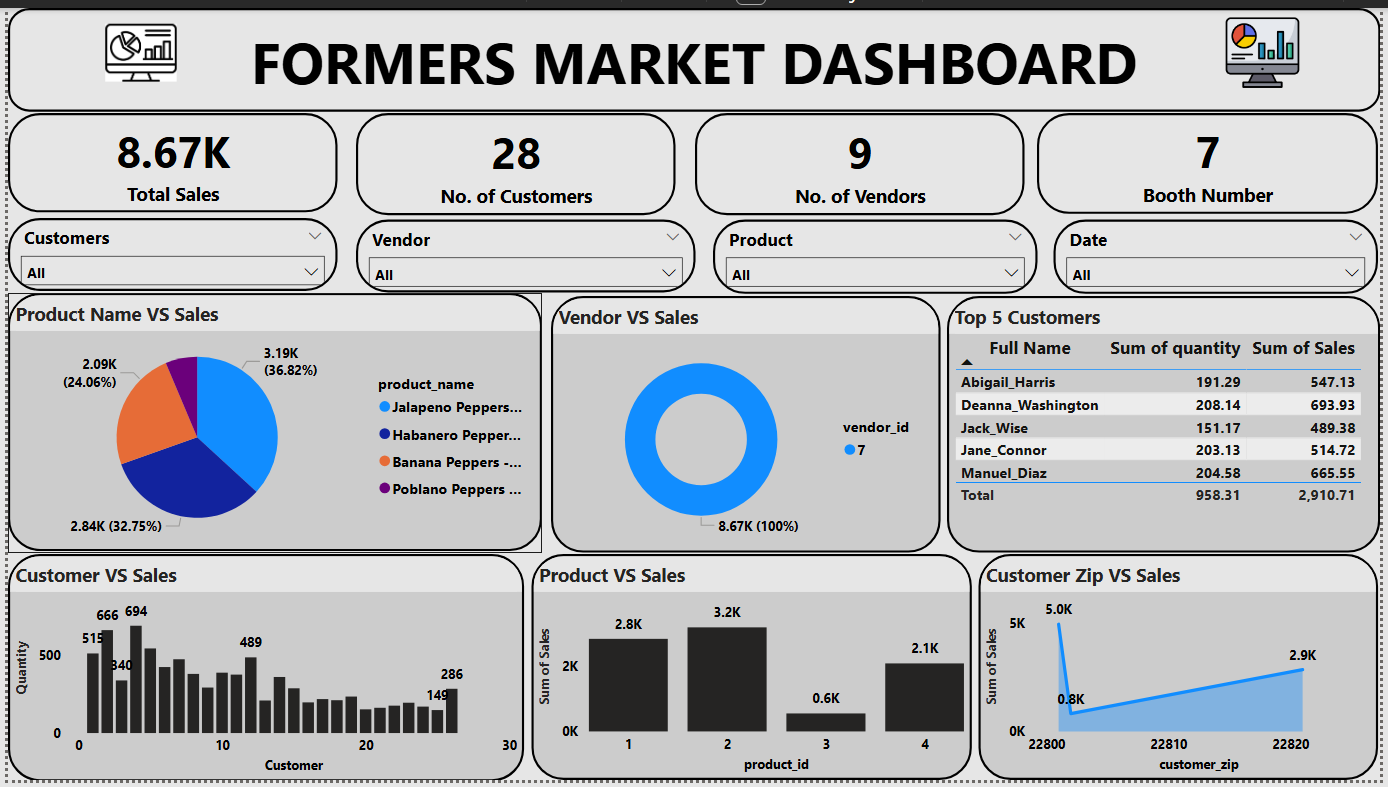

The dashboard page shown, as its layout file describes it:
{"tool":"powerbi","page":{"name":"Sales wise Analysis","canvas":[1280,720],"ordinal":1},"visuals":[{"type":"columnChart","title":"Customer VS Sales","fields":{"Category":["customer_purchases.customer_id"],"Y":["Sum(customer_purchases.Sales)"]},"box":[0,508.8,481.5,212],"z":0},{"type":"clusteredColumnChart","title":"Product VS Sales","fields":{"Category":["product.product_id"],"Y":["Sum(customer_purchases.Sales)"]},"box":[487.6,508.8,410.3,210.5],"z":1000},{"type":"pieChart","title":"Product Name VS Sales","fields":{"Category":["product.product_name"],"Y":["Sum(customer_purchases.Sales)"]},"box":[0,266.5,498.2,240.8],"z":2000},{"type":"donutChart","title":"Vendor VS Sales","fields":{"Category":["vendor.vendor_id"],"Y":["Sum(customer_purchases.Sales)"]},"box":[505.7,268,363.4,239.2],"z":3000},{"type":"textbox","box":[0,0,1280.1,96.5],"z":4000},{"type":"image","box":[84.8,0,77.2,83.3],"z":5000},{"type":"image","box":[1129.6,0,81.8,83.3],"z":6000},{"type":"card","fields":{"Values":["customer_purchases.total_sales"]},"box":[0,98.4,307.4,92.4],"z":7000},{"type":"card","fields":{"Values":["CountNonNull(customer.customer_id)"]},"box":[324,98.4,298.3,95.4],"z":8000},{"type":"card","fields":{"Values":["CountNonNull(vendor.vendor_id)"]},"box":[640.5,98.4,307.4,95.4],"z":9000},{"type":"card","fields":{"Values":["Count(vendor_booth_assignments.booth_number)"]},"box":[960,98.4,318,93.9],"z":10000},{"type":"tableEx","title":"Top 5 Customers","fields":{"Values":["customer.full_name","Sum(customer_purchases.quantity)","Sum(customer_purchases.Sales)"]},"box":[875.2,268,404.3,239.2],"z":11000},{"type":"areaChart","title":"Customer Zip VS Sales","fields":{"Category":["customer.customer_zip"],"Y":["Sum(customer_purchases.Sales)"]},"box":[905.5,508.8,372.5,210.5],"z":12000},{"type":"slicer","fields":{"Values":["customer.customer_id"]},"box":[0,195.3,307.4,68.1],"z":12001},{"type":"slicer","fields":{"Values":["vendor.vendor_id"]},"box":[324,196.8,316.5,68.1],"z":12002},{"type":"slicer","fields":{"Values":["product.product_id"]},"box":[657.2,196.8,302.8,69.7],"z":12003},{"type":"slicer","fields":{"Values":["market_date_info.market_date"]},"box":[975.1,196.8,302.8,69.7],"z":12004}]}

Visuals, with their boxes in screenshot pixels (x1, y1, x2, y2), scaled from the page's 1280x720 canvas onto the 1388x787 screenshot:
"Customer VS Sales" columnChart: x1=0, y1=556, x2=522, y2=786
"Product VS Sales" clusteredColumnChart: x1=529, y1=556, x2=974, y2=786
"Product Name VS Sales" pieChart: x1=0, y1=291, x2=540, y2=555
"Vendor VS Sales" donutChart: x1=548, y1=293, x2=942, y2=554
textbox: x1=0, y1=0, x2=1387, y2=105
image: x1=92, y1=0, x2=176, y2=91
image: x1=1225, y1=0, x2=1314, y2=91
card - customer_purchases.total_sales: x1=0, y1=108, x2=333, y2=209
card - CountNonNull(customer.customer_id): x1=351, y1=108, x2=675, y2=212
card - CountNonNull(vendor.vendor_id): x1=695, y1=108, x2=1028, y2=212
card - Count(vendor_booth_assignments.booth_number): x1=1041, y1=108, x2=1386, y2=210
"Top 5 Customers" tableEx: x1=949, y1=293, x2=1387, y2=554
"Customer Zip VS Sales" areaChart: x1=982, y1=556, x2=1386, y2=786
slicer - customer.customer_id: x1=0, y1=213, x2=333, y2=288
slicer - vendor.vendor_id: x1=351, y1=215, x2=695, y2=290
slicer - product.product_id: x1=713, y1=215, x2=1041, y2=291
slicer - market_date_info.market_date: x1=1057, y1=215, x2=1386, y2=291
